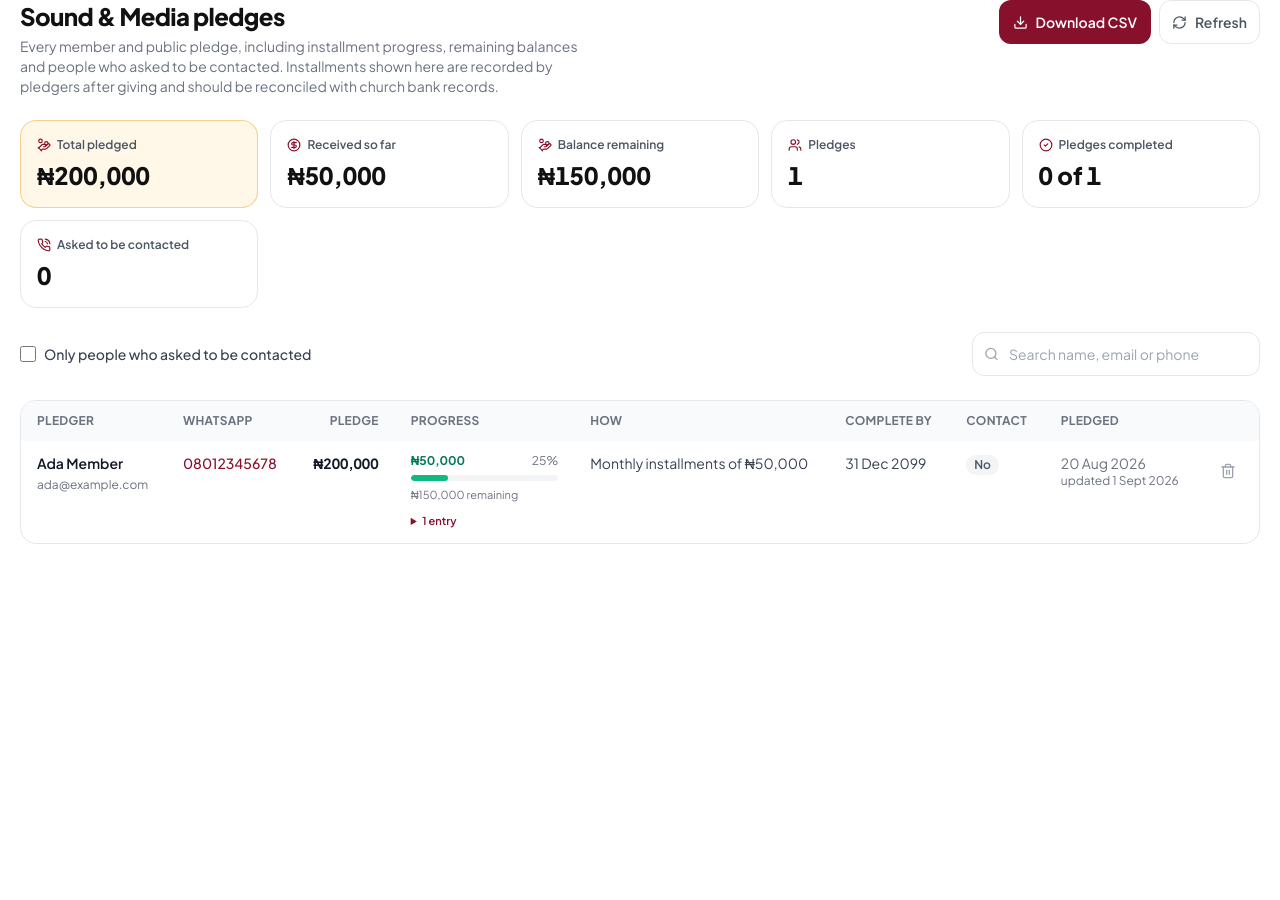
Test: removing a pledge from the admin list › asks first, spelling out what goes with it, and removes only after a yes
The width and height of the screenshot is (1280, 900).
Step 1. Click the button named "Remove Ada Member's pledge" → (1228, 471), box [1206,449,1250,493]
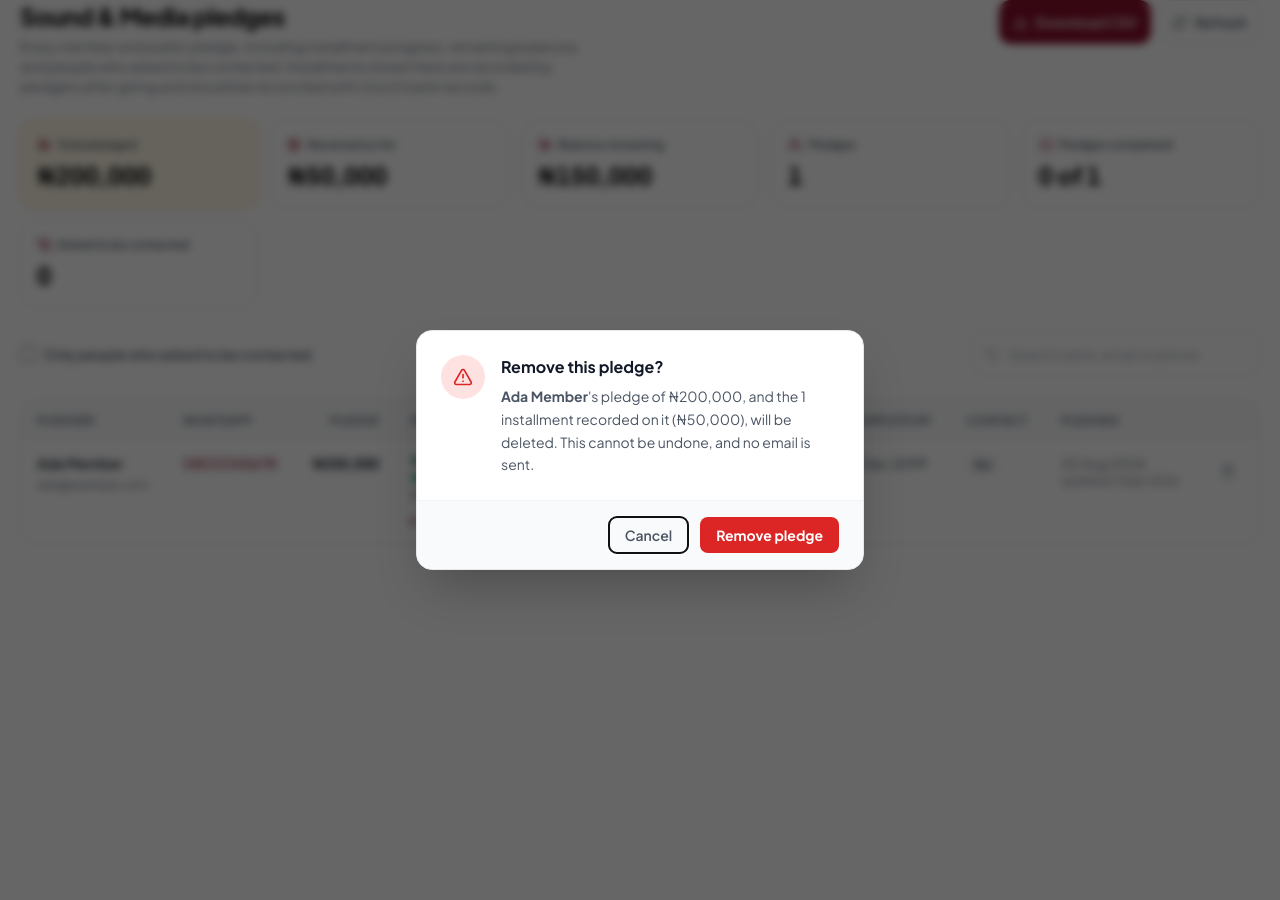
Expected: the dialog shows "₦200,000", [668,387,742,405]
Expected: the dialog shows "1 installment"
Expected: the dialog shows "cannot be undone", [501,410,811,473]
Step 2. Click the button "Remove pledge" → (770, 535), box [700,517,839,553]
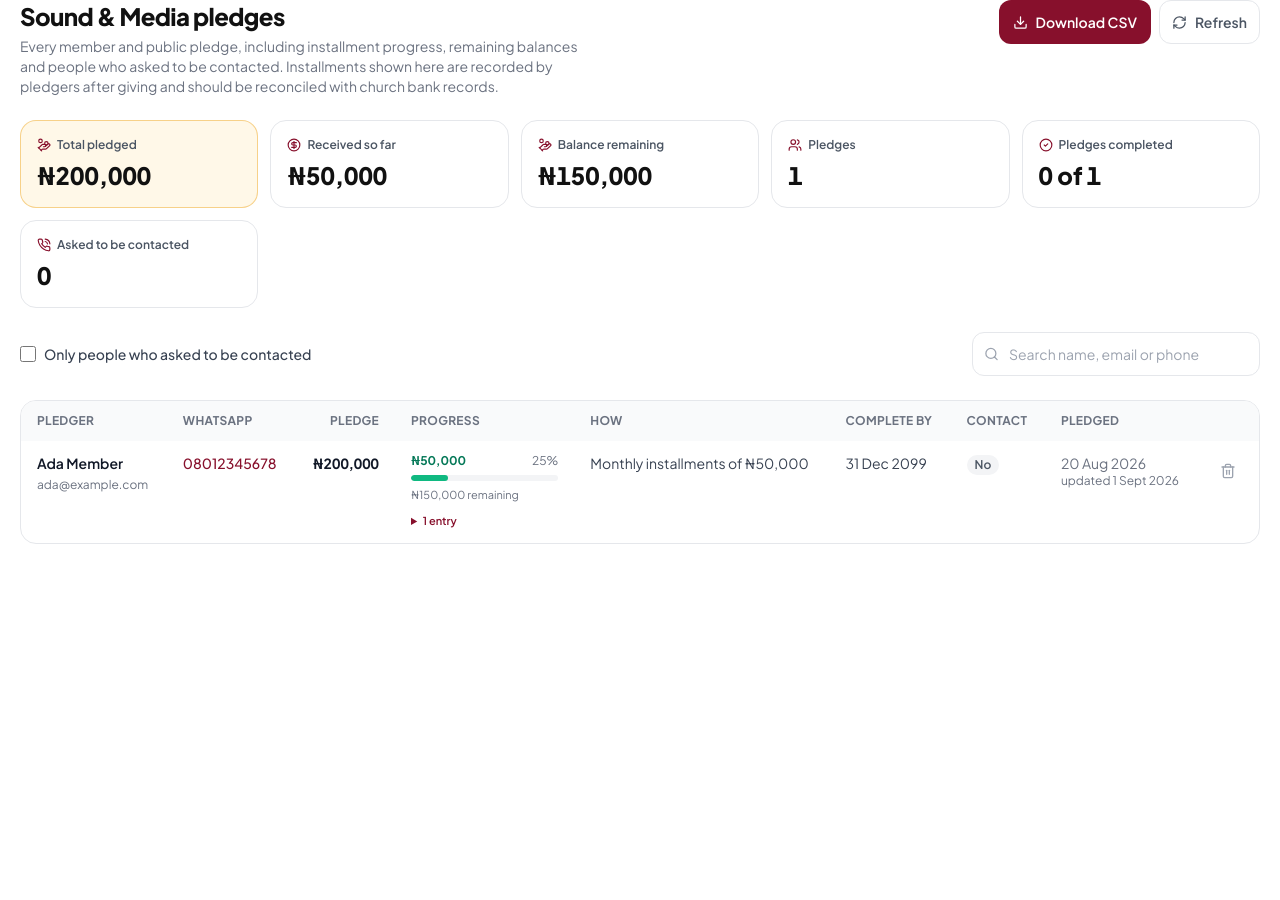
Expected: the dialog is gone
